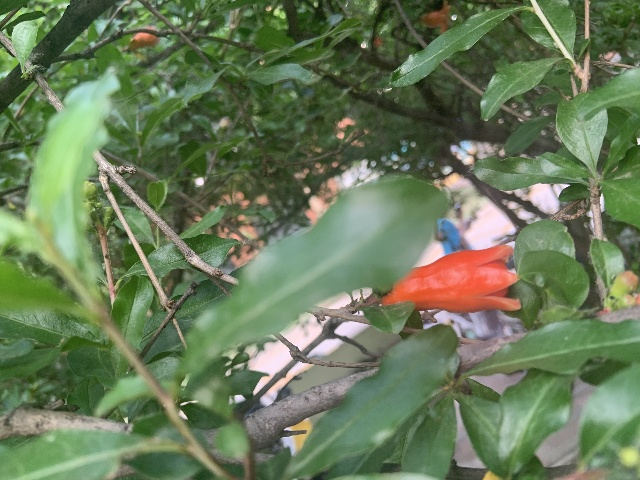bud: (129, 28, 159, 49)
flower: (381, 243, 521, 313), (420, 0, 451, 33)
